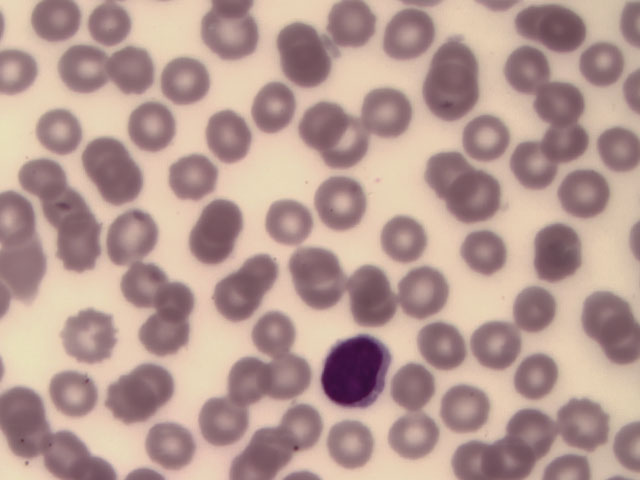RBC: (232, 426, 287, 480), (447, 426, 502, 480), (56, 42, 111, 95), (101, 42, 156, 95), (157, 49, 212, 102), (121, 97, 176, 150), (71, 128, 126, 181), (95, 154, 150, 207), (37, 109, 92, 162), (13, 152, 68, 205), (36, 180, 91, 233), (49, 228, 104, 281), (107, 211, 162, 264), (114, 260, 169, 313), (150, 275, 205, 328), (141, 310, 196, 363), (56, 310, 111, 363), (45, 363, 100, 416), (35, 425, 90, 478), (94, 380, 149, 433), (123, 359, 178, 412), (147, 415, 202, 468), (187, 396, 242, 449), (218, 352, 273, 405), (262, 350, 317, 403), (244, 307, 299, 360), (206, 277, 261, 330), (234, 247, 289, 300), (173, 220, 228, 273), (191, 192, 246, 245), (169, 152, 224, 205), (203, 104, 258, 157), (248, 78, 303, 131), (285, 44, 340, 97), (265, 9, 320, 62), (201, 9, 256, 62), (374, 11, 429, 64), (423, 23, 478, 76), (424, 69, 479, 122), (362, 85, 417, 138), (325, 122, 380, 175), (290, 98, 345, 151), (309, 174, 364, 227), (262, 193, 317, 246), (279, 223, 334, 276), (294, 259, 349, 312), (341, 292, 396, 345), (342, 260, 397, 313), (379, 212, 434, 265), (394, 267, 449, 320), (411, 317, 466, 370), (393, 358, 448, 411), (388, 411, 443, 464), (329, 419, 384, 472), (281, 397, 336, 450), (507, 407, 562, 460), (553, 393, 608, 446), (508, 349, 563, 402), (467, 319, 522, 372), (500, 285, 555, 338), (526, 225, 581, 278), (455, 229, 510, 282), (455, 172, 510, 225), (424, 148, 479, 201), (463, 108, 518, 161), (507, 136, 562, 189), (533, 124, 588, 177), (531, 80, 586, 133), (499, 45, 554, 98), (578, 39, 633, 92), (531, 7, 586, 60), (585, 121, 640, 174), (558, 170, 613, 223), (577, 282, 632, 335), (1, 417, 55, 470), (1, 46, 55, 99), (29, 1, 84, 53), (79, 1, 134, 53), (324, 1, 379, 53)
WBC: (321, 332, 394, 408)
